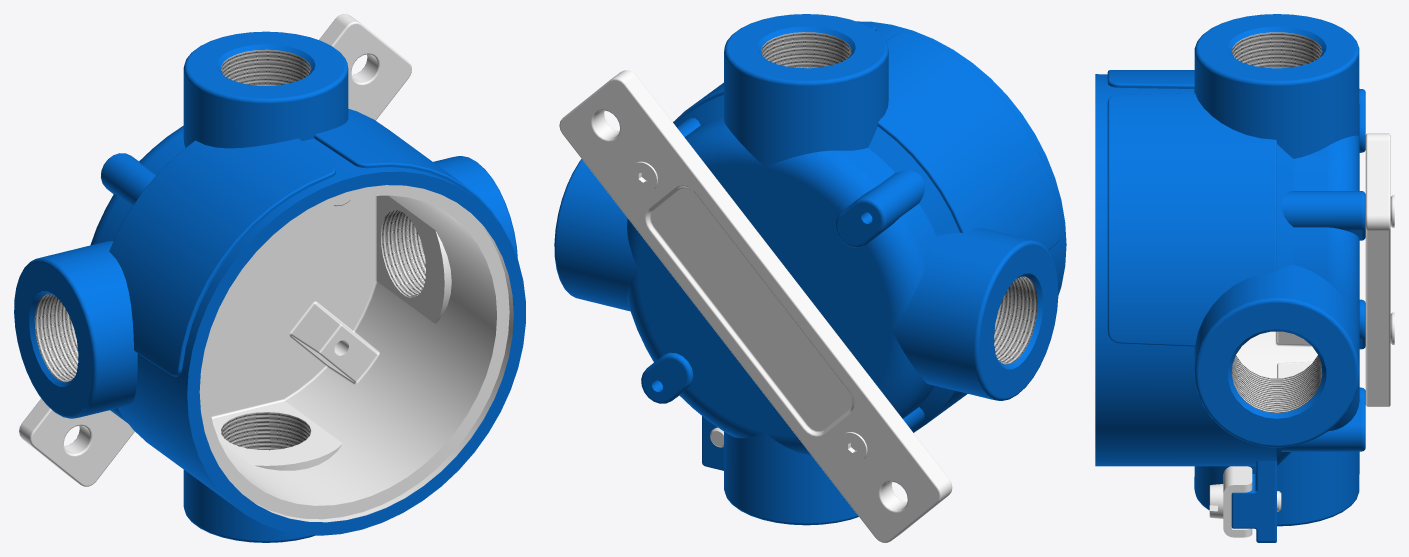
The model's file is main.glb.
3 renders of one model, left to right at view 1: azimuth 30°, elevation 25°; view 2: azimuth 150°, elevation 25°; view 3: azimuth 270°, elevation 25°, orthographic.
Parts seen in each view (by area): view 1: Valvola Sensitron.010; view 2: Valvola Sensitron.010; view 3: Valvola Sensitron.010.
Part boxes in pixels (x1,y1,x2,y2): Valvola Sensitron.010: (14,14,525,542); Valvola Sensitron.010: (554,14,1066,542); Valvola Sensitron.010: (1095,14,1394,542).
Size of the model in its own units: 2.35 by 2.35 by 1.43.
Materials: 4 (3 with a texture image).
